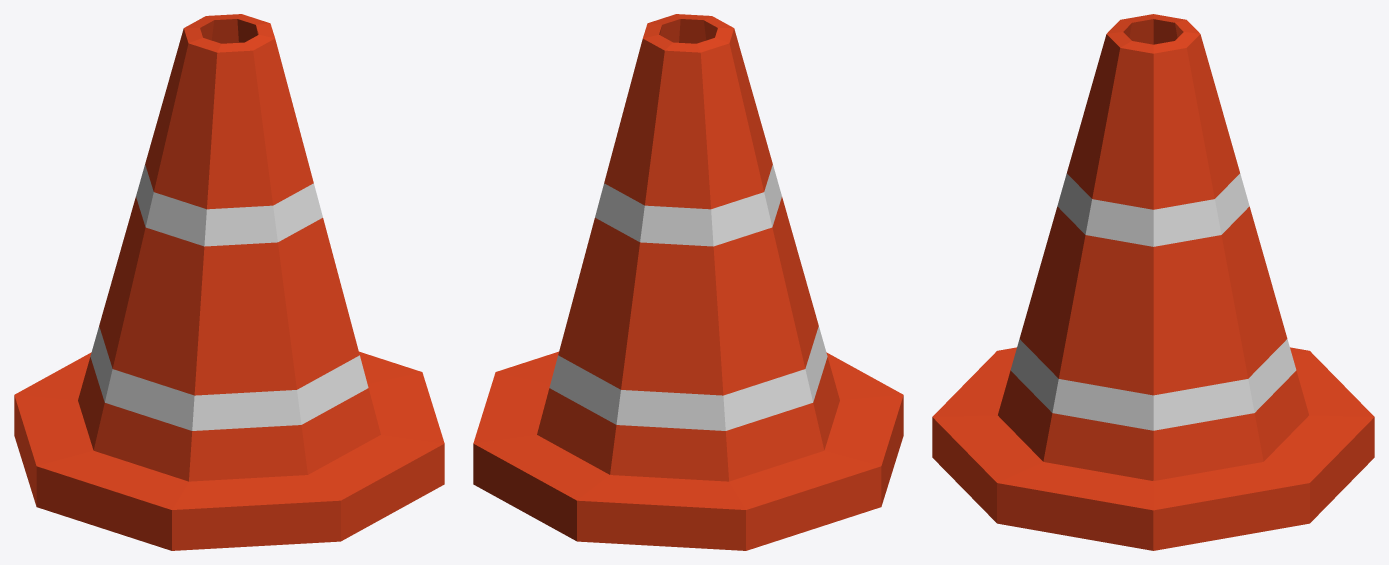
3 views of the same model, side by side, from view 1: azimuth 30°, elevation 25°; view 2: azimuth 150°, elevation 25°; view 3: azimuth 270°, elevation 25° (orthographic).
Visible parts, largest first — view 1: Circle; view 2: Circle; view 3: Circle.
Boxes of the visible parts, box(x1,y1,x2,y2) form: Circle: box(14, 14, 444, 550); Circle: box(473, 14, 903, 550); Circle: box(932, 14, 1374, 550).
Size of the model in its own units: 200 by 212 by 200.
